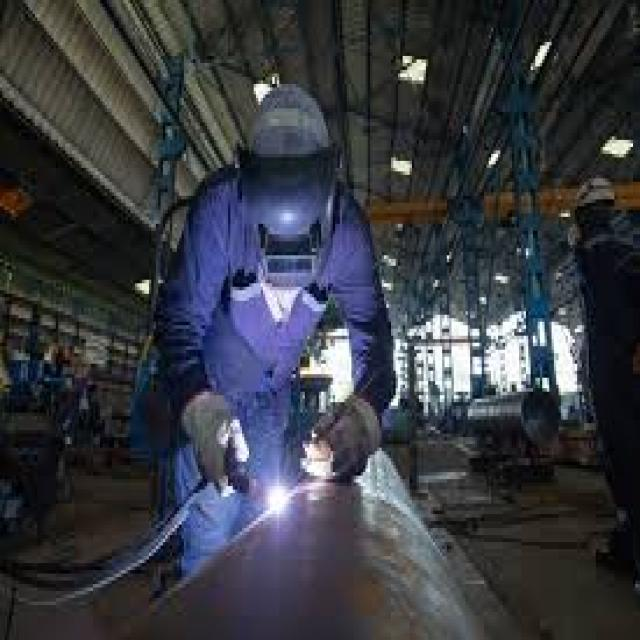welding: (267, 482, 288, 516)
